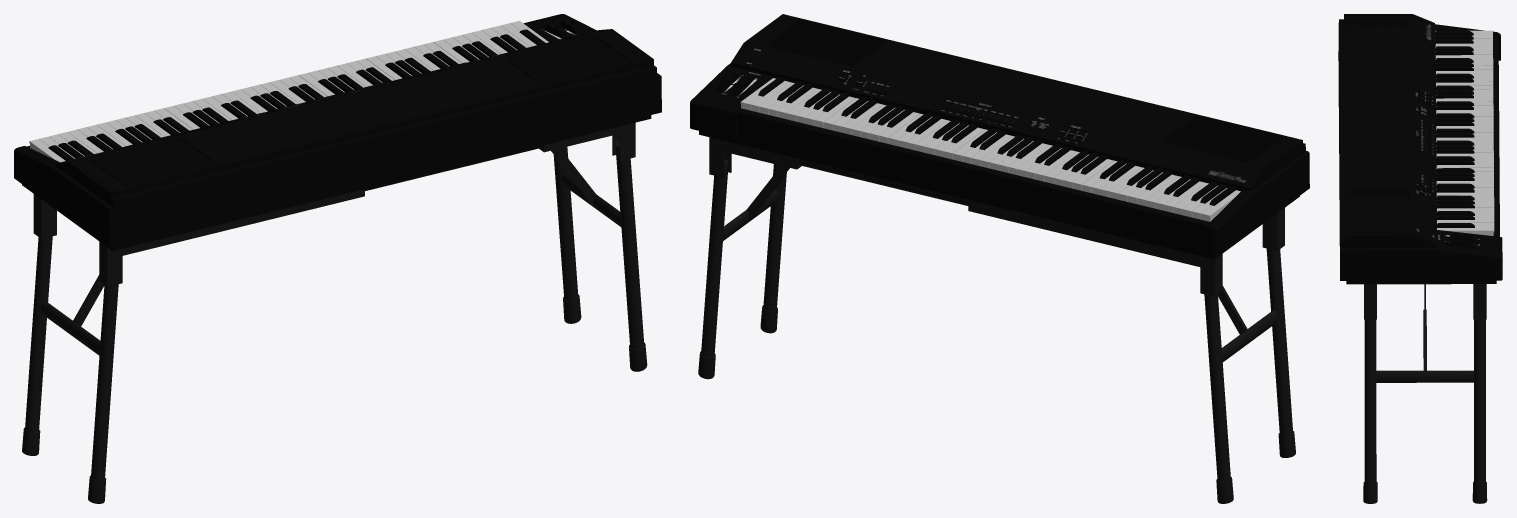
Rendered from piano.fbx.
3 renders of one model, left to right at view 1: azimuth 30°, elevation 25°; view 2: azimuth 150°, elevation 25°; view 3: azimuth 270°, elevation 25°, orthographic. The views are drawn at different scales.
Parts seen in each view (by area): view 1: e-piano, piano stand; view 2: e-piano, piano stand; view 3: e-piano, piano stand.
Part boxes in pixels (box(x1,y1,x2,y2)): e-piano: box(14, 14, 661, 250); piano stand: box(22, 122, 647, 503); e-piano: box(690, 14, 1309, 259); piano stand: box(698, 137, 1295, 503); e-piano: box(1338, 14, 1502, 284); piano stand: box(1363, 284, 1487, 503).
Bounding box in the file's own units: 139 × 76.42 × 42.43.
